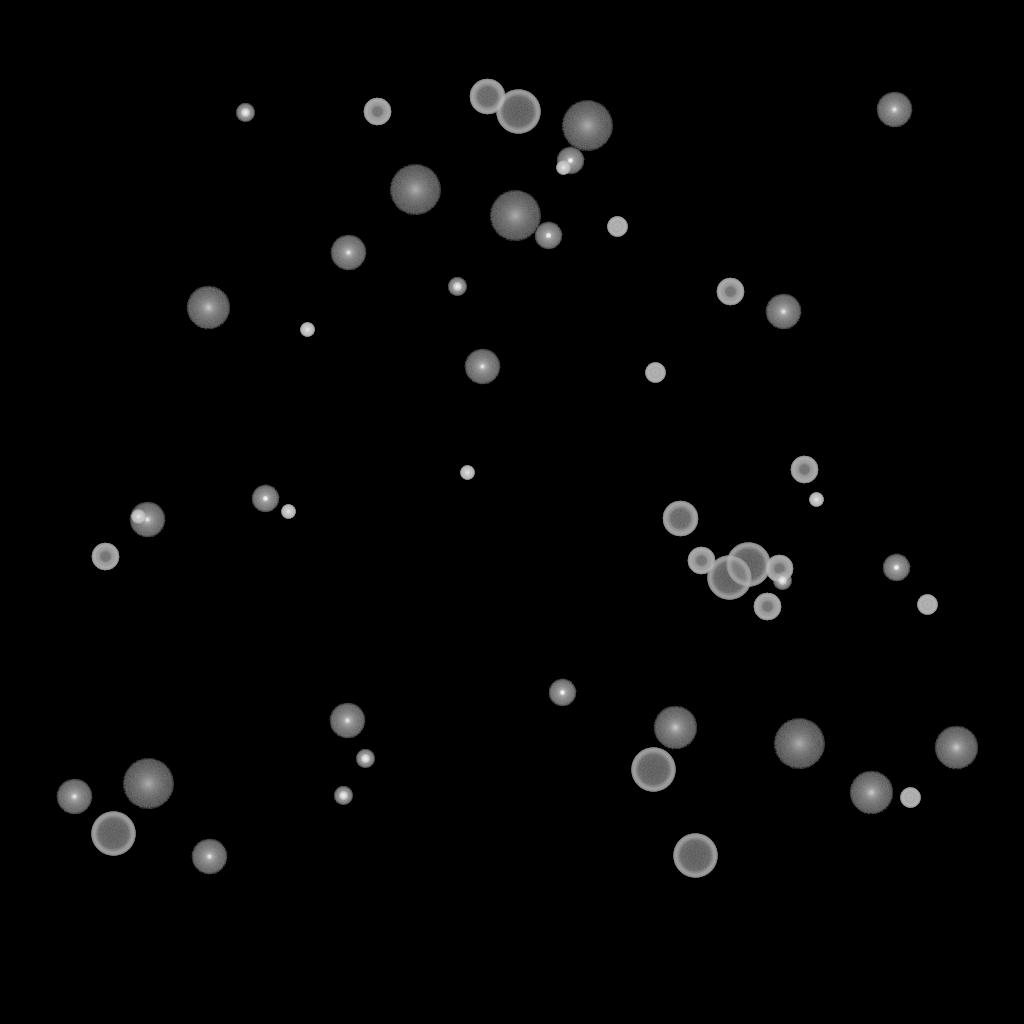depth:-10: (548, 679, 576, 707), (882, 554, 910, 582), (556, 147, 584, 175), (534, 222, 562, 250), (251, 485, 279, 513)
depth:-20: (334, 787, 352, 805), (356, 750, 374, 768), (448, 278, 466, 296), (773, 572, 791, 590), (236, 104, 254, 122)
depth:-30: (281, 505, 295, 519), (809, 493, 823, 507), (460, 466, 474, 480), (556, 161, 570, 175), (300, 323, 314, 337), (131, 510, 145, 524)
depth:-40: (900, 788, 920, 808), (607, 217, 627, 237), (645, 363, 665, 383), (917, 595, 937, 615)
depth:-50: (790, 456, 818, 484), (91, 543, 119, 571), (765, 555, 793, 583), (687, 547, 715, 575), (716, 278, 744, 306), (363, 98, 391, 126), (753, 593, 781, 621)
depth:-60: (469, 79, 505, 115), (662, 501, 698, 537)
depth:-70: (631, 748, 675, 792), (91, 812, 135, 856), (726, 543, 770, 587), (496, 90, 540, 134), (673, 834, 717, 878), (707, 556, 751, 600)
depth:0: (464, 349, 500, 385), (330, 235, 366, 271), (56, 779, 92, 815), (129, 502, 165, 538), (329, 703, 365, 739), (876, 92, 912, 128), (765, 294, 801, 330), (191, 839, 227, 875)
depth:10: (934, 726, 978, 770), (186, 286, 230, 330), (849, 771, 893, 815), (653, 706, 697, 750)
depth:20: (389, 165, 441, 215), (561, 101, 613, 151), (489, 191, 541, 241), (122, 759, 174, 809), (773, 719, 825, 769)
